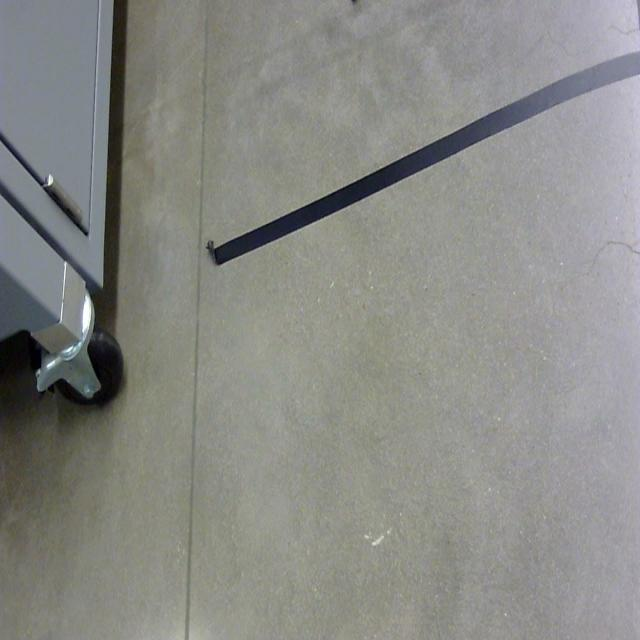tape: (208, 49, 640, 270)
